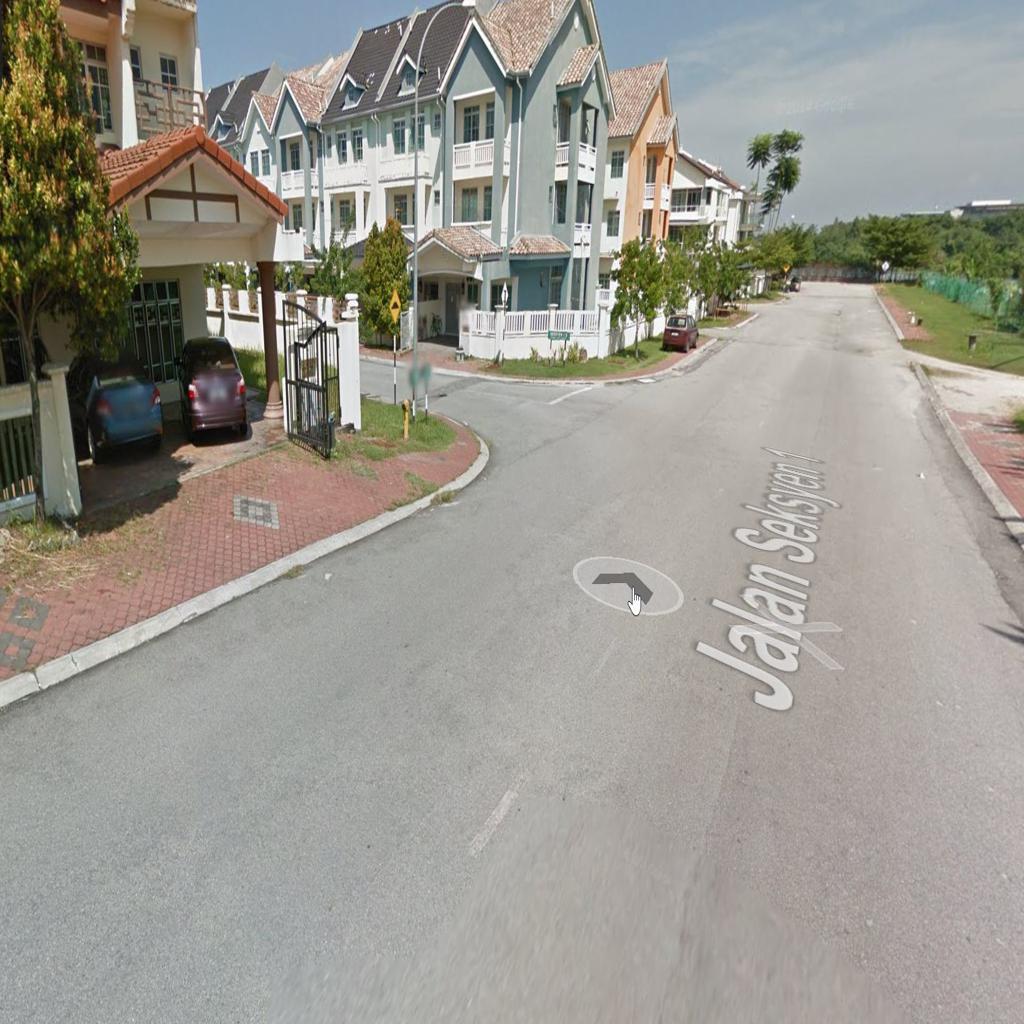Junction: (408, 350, 669, 500)
